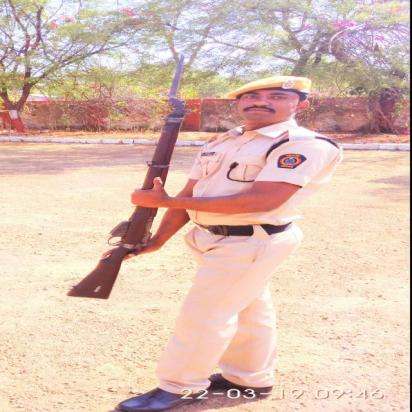Gun: (63, 53, 195, 302)
